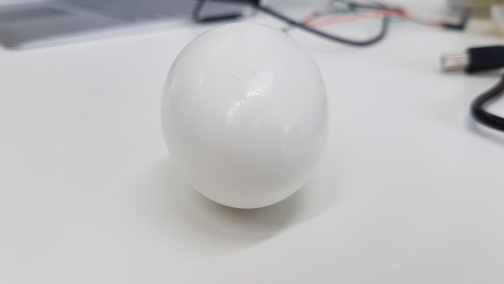egg: (158, 21, 329, 211)
